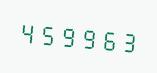five: (37, 16, 56, 51)
four: (17, 14, 36, 49)
nine: (58, 18, 77, 52), (78, 20, 97, 54)
six: (98, 21, 117, 56)
three: (118, 23, 137, 58)
